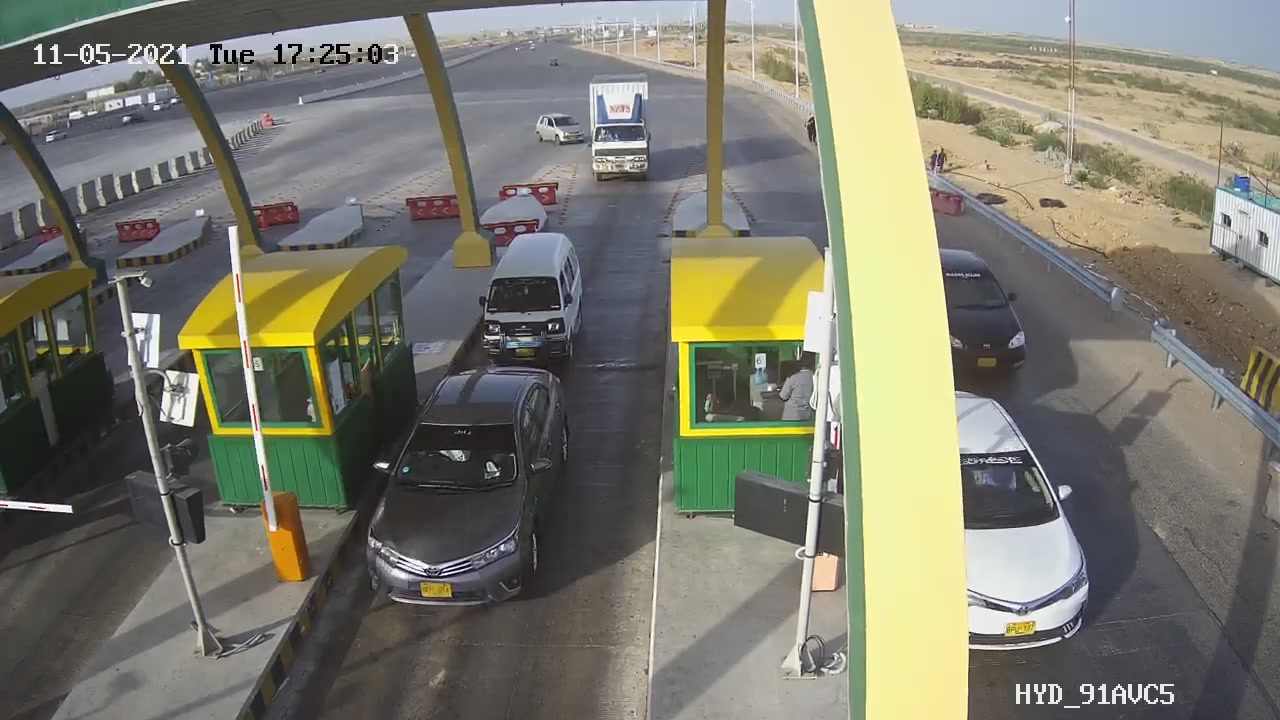F1: (338, 349, 592, 629), (461, 214, 611, 383)
